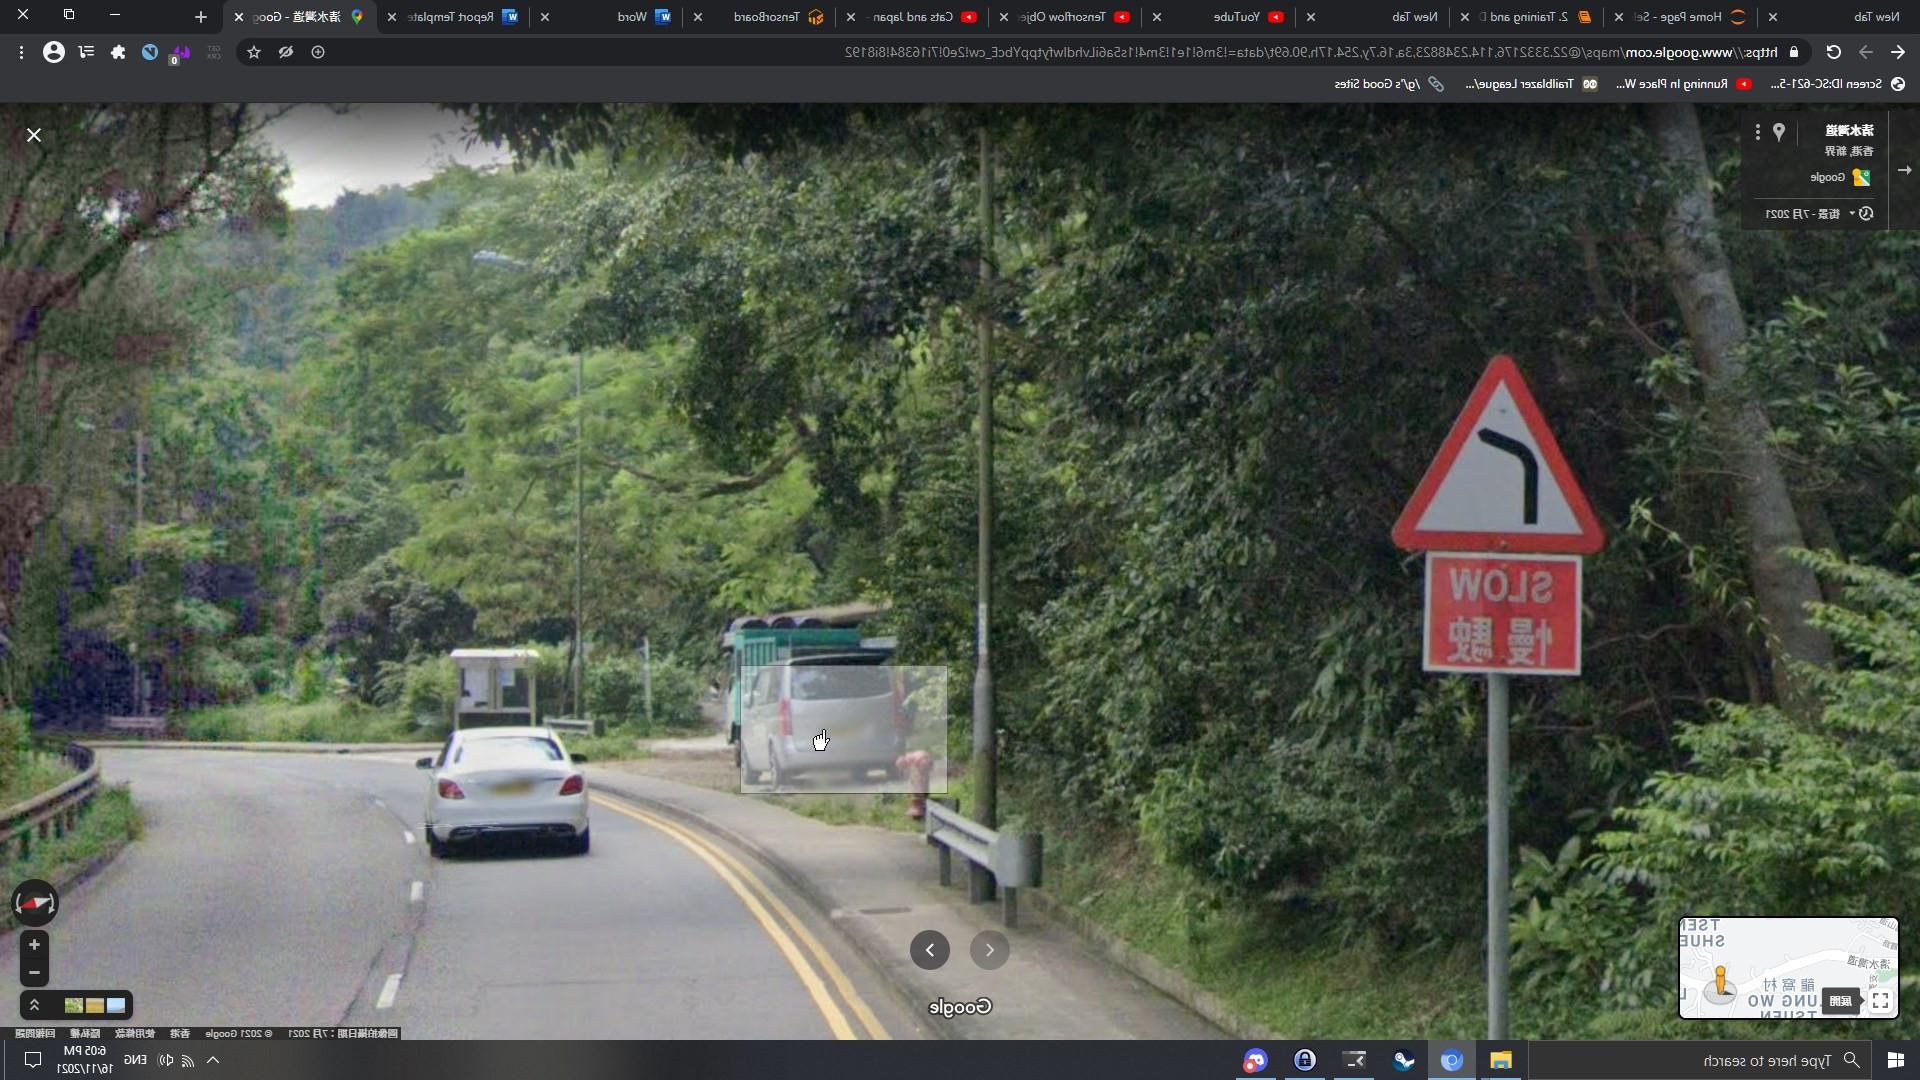BendToLeft: (1391, 355, 1607, 555)
